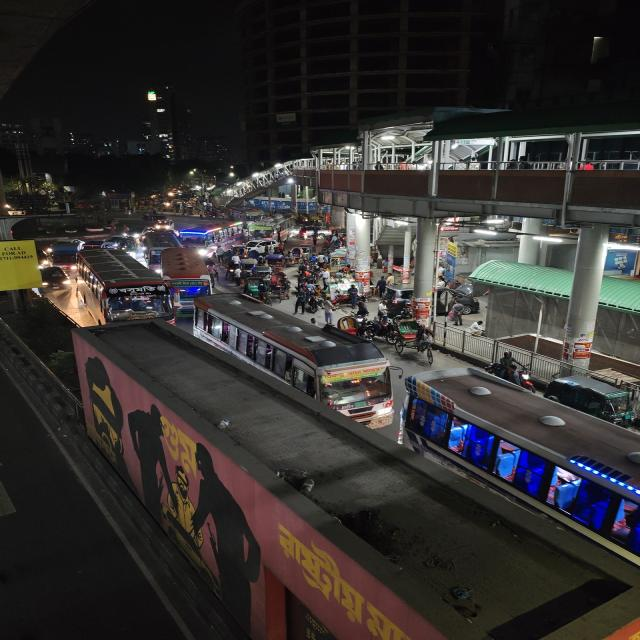bus: (401, 369, 639, 587), (186, 294, 400, 430), (78, 249, 174, 329), (160, 248, 215, 300), (179, 221, 232, 257), (141, 231, 180, 258), (246, 221, 287, 240)
car: (38, 264, 70, 296)
cng: (542, 361, 634, 420)
rickshaw: (390, 316, 441, 362), (335, 312, 376, 337), (241, 278, 274, 302)
truck: (45, 240, 84, 268)
